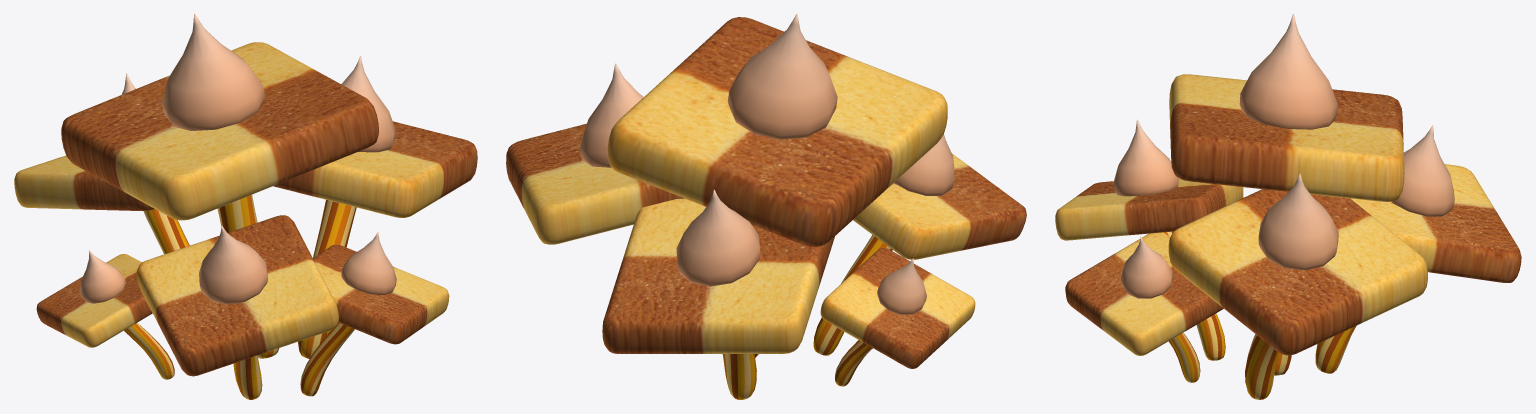
The model's file is cw_PlantsFlowers_29.fbx.
3 renders of one model, left to right at view 1: azimuth 30°, elevation 25°; view 2: azimuth 150°, elevation 25°; view 3: azimuth 270°, elevation 25°, orthographic. The views are drawn at different scales.
Visible parts, largest first — view 1: cw_pf_29; view 2: cw_pf_29; view 3: cw_pf_29.
Part boxes in pixels (left/top/right/bottom): cw_pf_29: left=14, top=14, right=477, bottom=399; cw_pf_29: left=506, top=14, right=1026, bottom=399; cw_pf_29: left=1055, top=14, right=1521, bottom=399.
Bounding box in the file's own units: 221 × 182 × 225.
